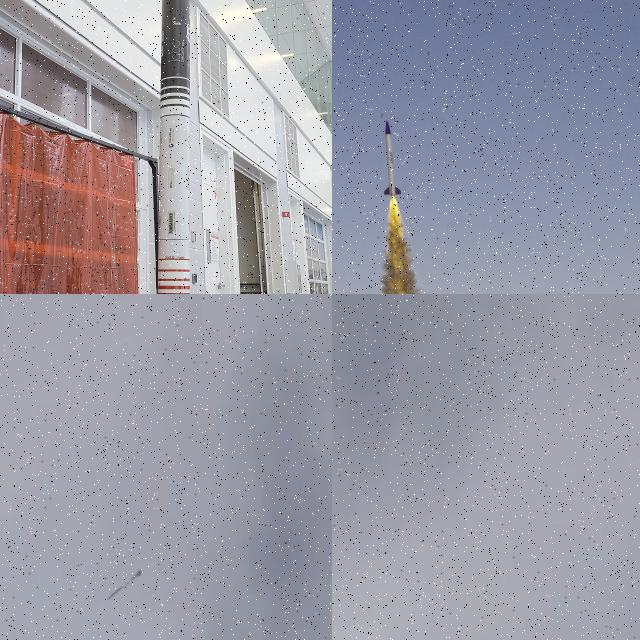Rocket: (157, 0, 191, 294), (383, 120, 402, 197), (107, 569, 142, 601)
